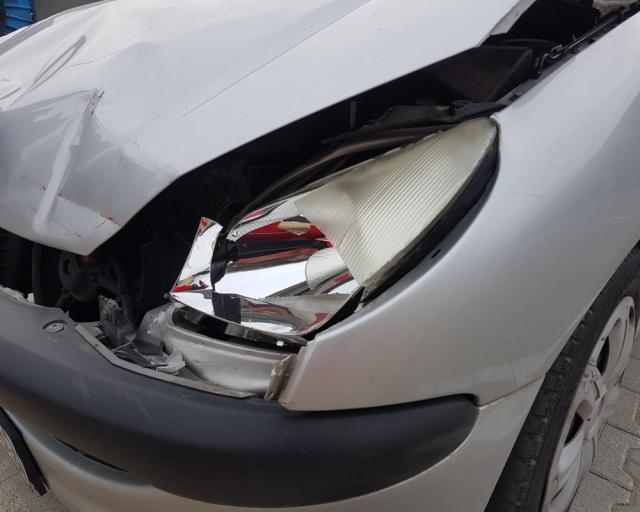dent: (3, 9, 162, 248)
lamp broken: (167, 116, 492, 338)
